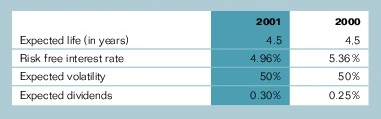table: (0, 0, 381, 119)
